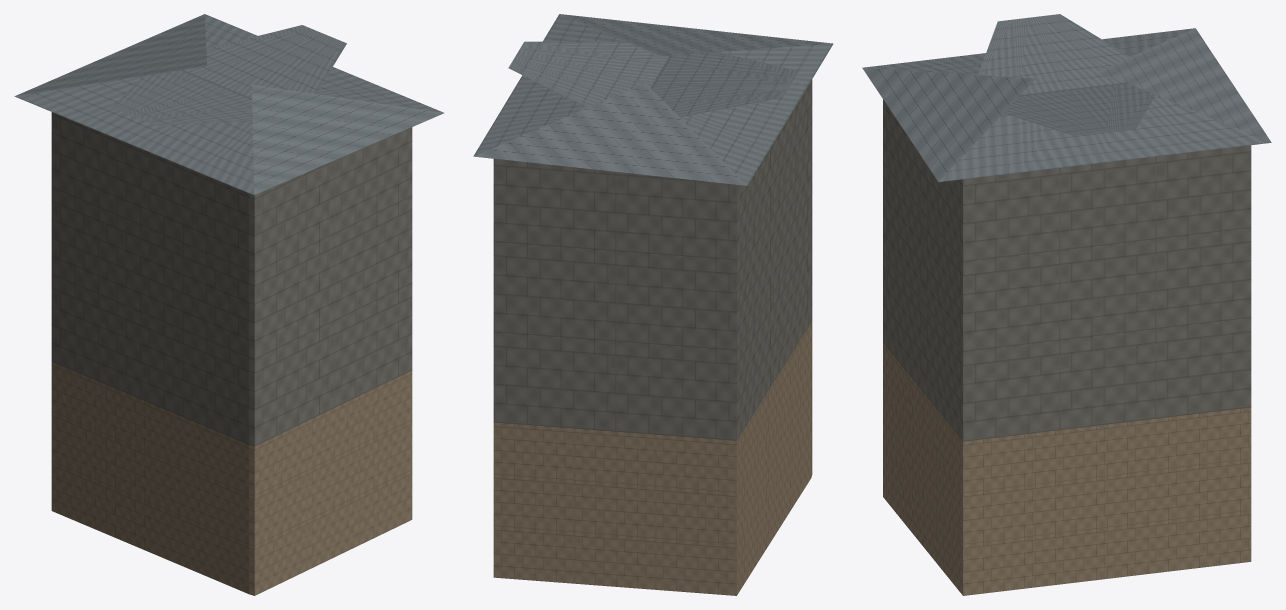
File: bld_c40_33_296.gltf
3 views of the same model, side by side, from view 1: azimuth 30°, elevation 25°; view 2: azimuth 150°, elevation 25°; view 3: azimuth 270°, elevation 25° (orthographic). The views are drawn at different scales.
Parts seen in each view (by area): view 1: bld_c40_33_296; view 2: bld_c40_33_296; view 3: bld_c40_33_296.
Part boxes in pixels (x1,y1,x2,y2): bld_c40_33_296: (14,14,443,595); bld_c40_33_296: (473,14,833,595); bld_c40_33_296: (862,14,1271,595).
Bounding box in the file's own units: 10.92 × 15 × 12.26.
Materials: 3 (3 with a texture image).
